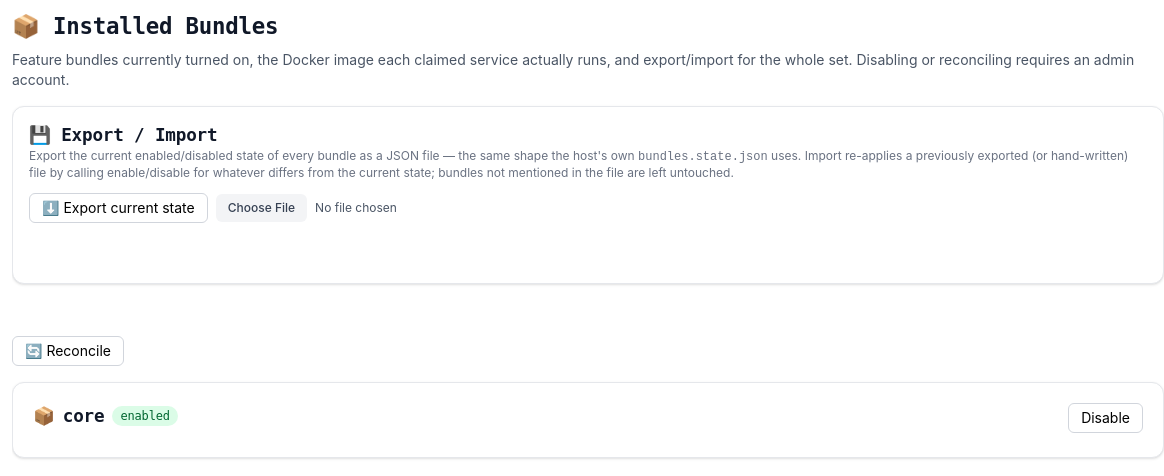
Test: InstalledBundlesPage › shows a friendly error when reconcile fails, without reloading
This screenshot has width=1164, height=476.
What coordinates should you click on to do the following:
click the button "🔄 Reconcile"
I would click on:
 (68, 351)
Its box is [12,336,124,366].
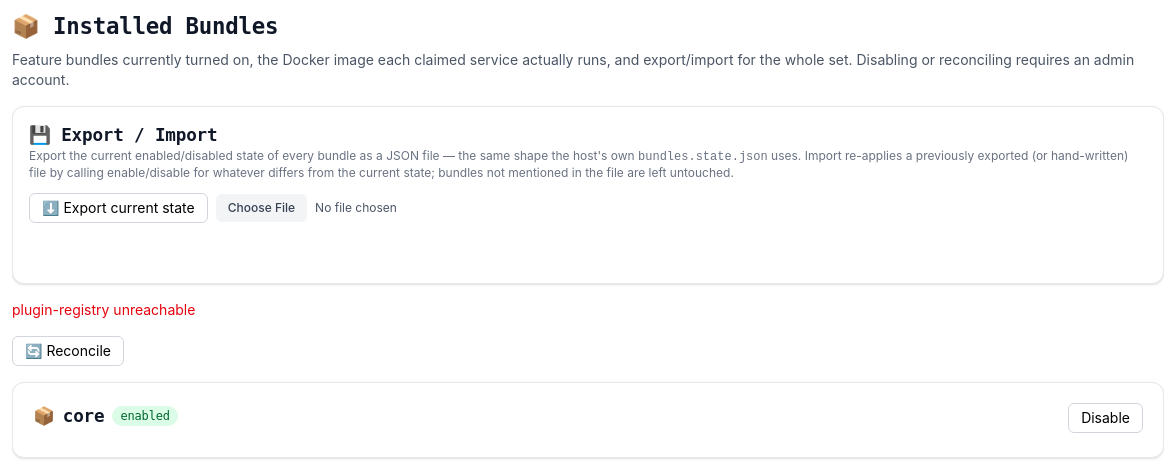
Expected: the message "plugin-registry unreachable" is shown, [12,301,195,318]
